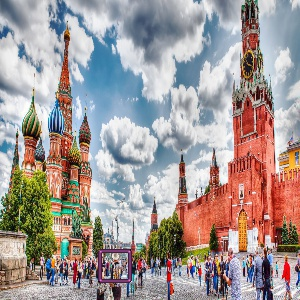square: (97, 248, 133, 284)
